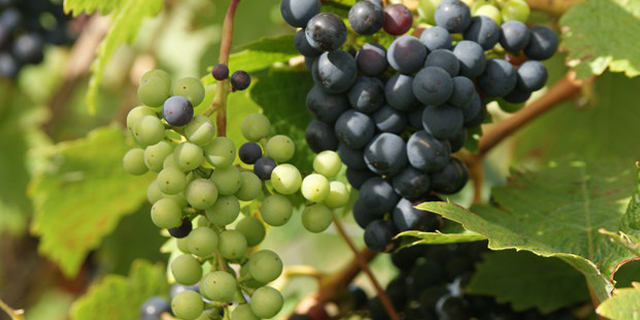Black grapes: (297, 9, 524, 258), (125, 65, 317, 320)
